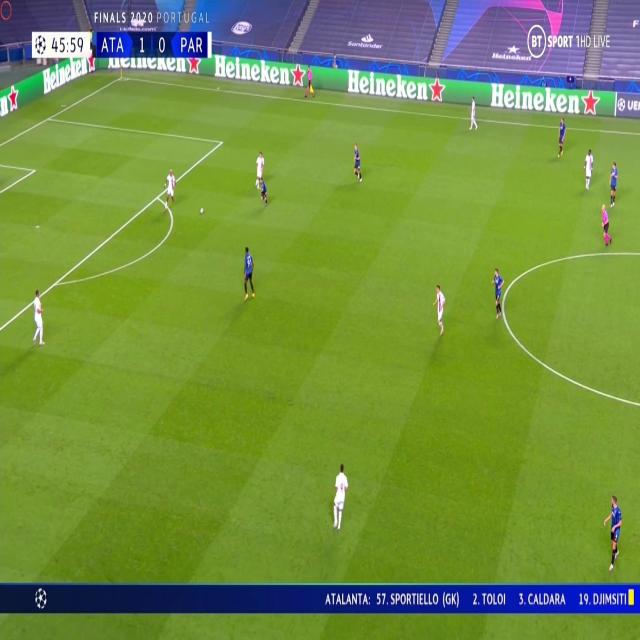ball: (199, 205, 205, 215)
player: (602, 491, 624, 567), (332, 460, 349, 529), (30, 286, 46, 347), (431, 281, 447, 335), (242, 244, 256, 301), (490, 267, 504, 319), (607, 160, 619, 207), (253, 148, 266, 190), (163, 166, 176, 208), (582, 145, 594, 190), (600, 202, 612, 246), (351, 140, 363, 184), (555, 115, 566, 157), (304, 64, 315, 97), (468, 93, 478, 129), (259, 180, 269, 206)
